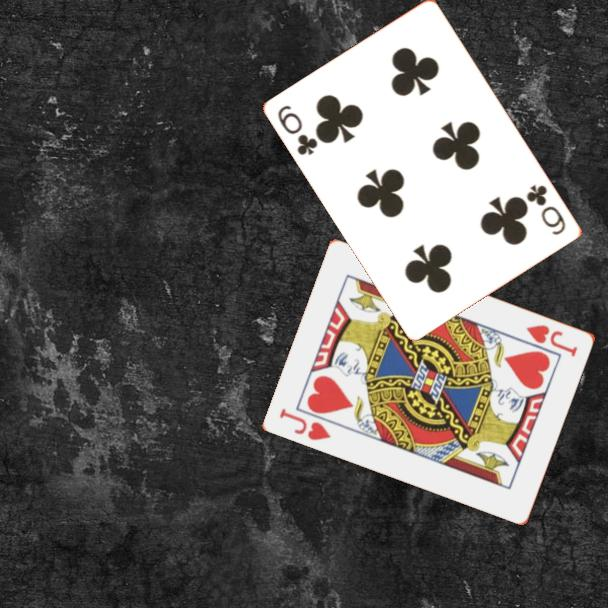c06: (274, 102, 321, 158), (523, 181, 569, 238)
h11: (523, 321, 581, 360), (276, 405, 334, 443)
